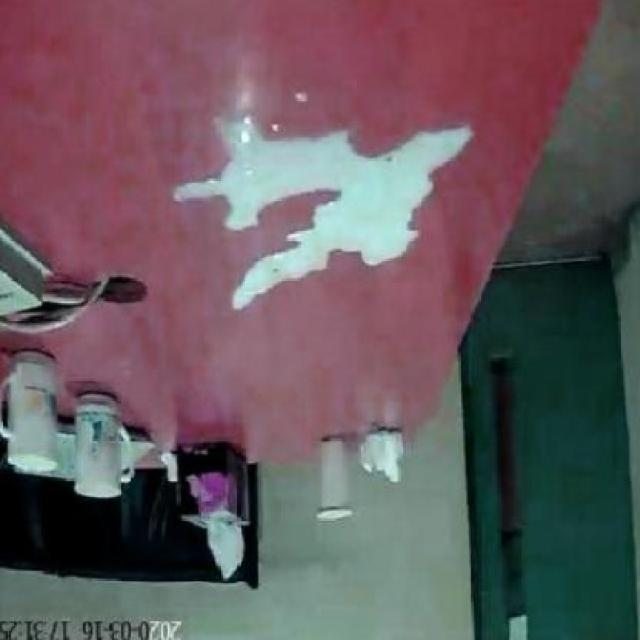spillage: (172, 99, 474, 311)
